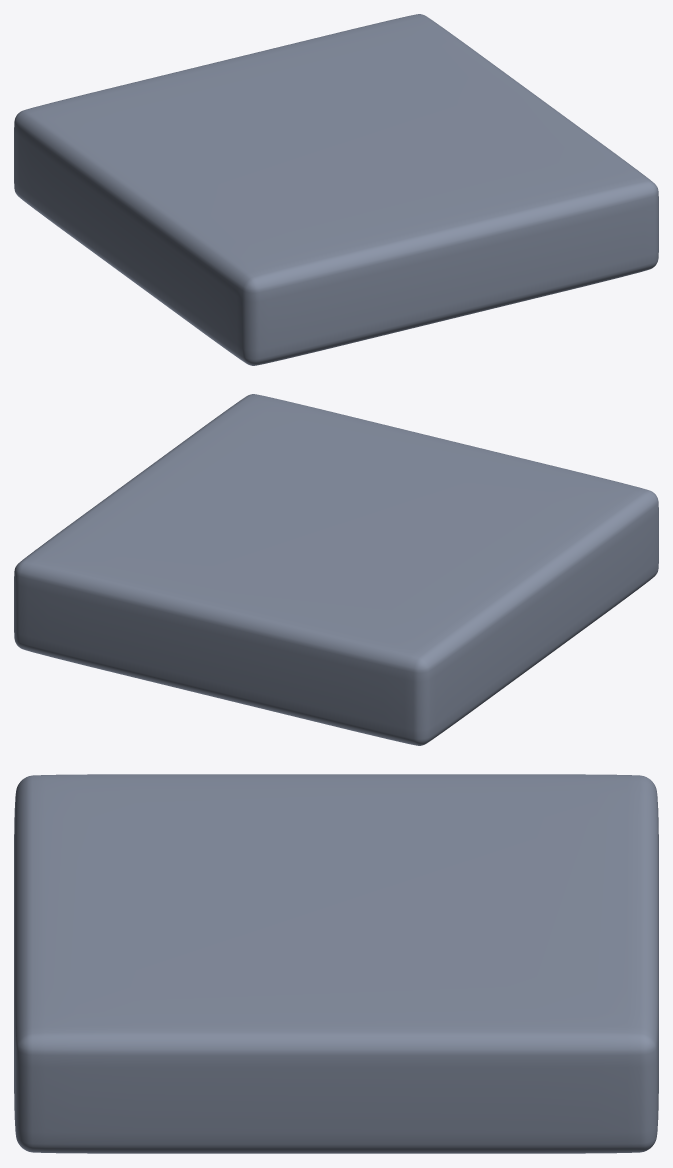
File: BasicNode.fbx
3 views of the same model, one above another, from view 1: azimuth 30°, elevation 25°; view 2: azimuth 150°, elevation 25°; view 3: azimuth 270°, elevation 25° (orthographic). The views are drawn at different scales.
Parts seen in each view (by area): view 1: base-floor; view 2: base-floor; view 3: base-floor.
Boxes of the visible parts, x1,y1,x2,y2 form: base-floor: [14, 14, 658, 365]; base-floor: [14, 394, 658, 745]; base-floor: [14, 774, 658, 1153].
Size of the model in its own units: 199 by 41.99 by 199.
